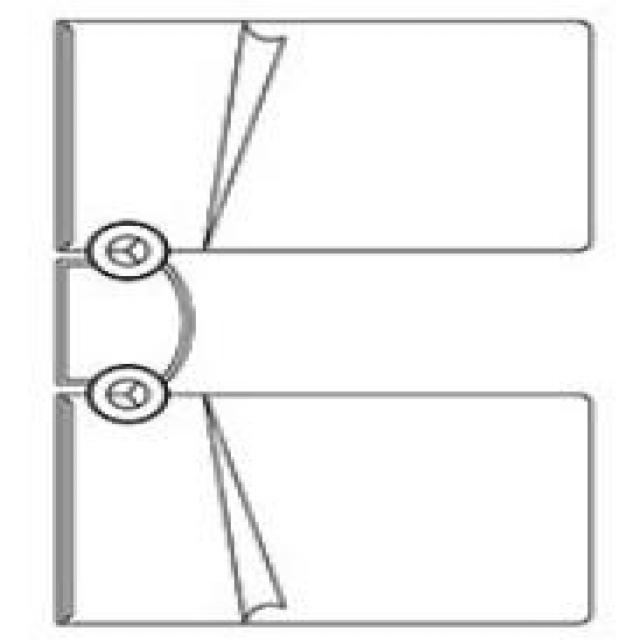bed: (49, 15, 591, 625)
